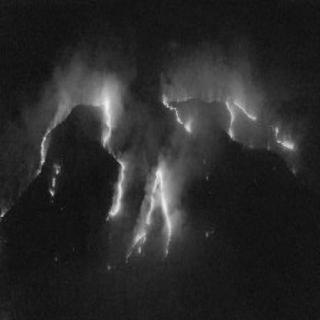Fire: (30, 95, 128, 217), (159, 78, 295, 158), (136, 164, 172, 258)
